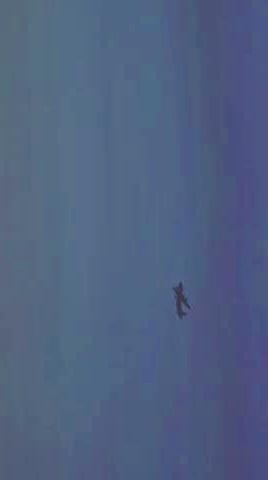Plane: (162, 262, 200, 337)
